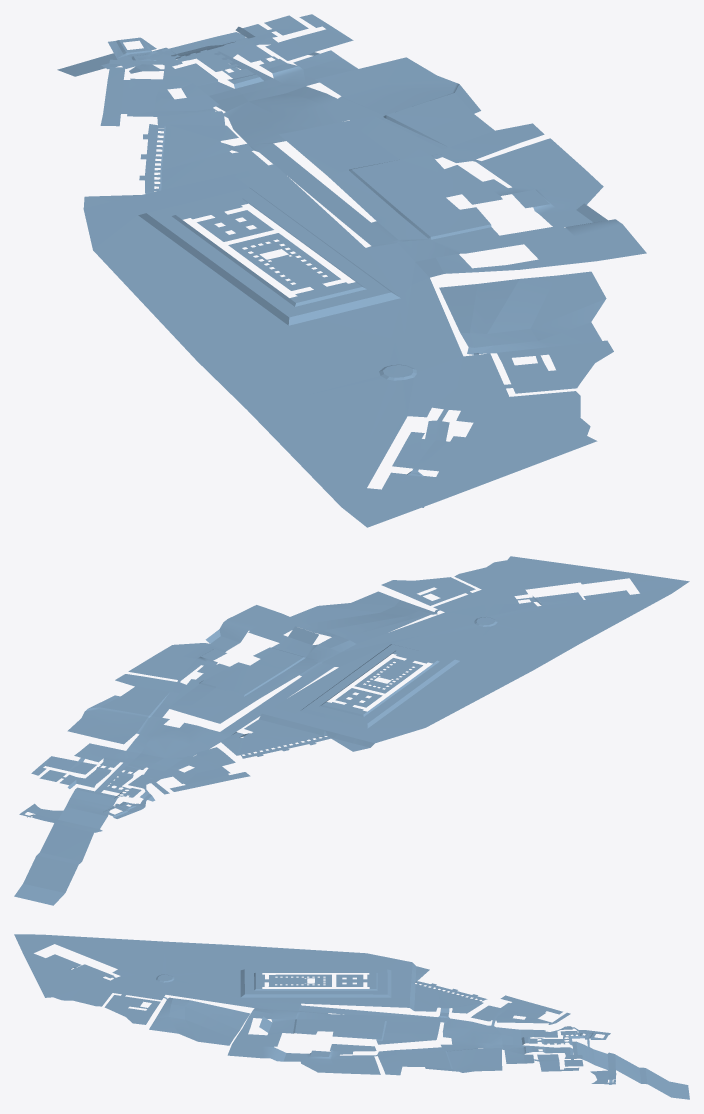
The model's file is AcropolisWalk.glb.
3 renders of one model, top to bottom at view 1: azimuth 30°, elevation 25°; view 2: azimuth 150°, elevation 25°; view 3: azimuth 270°, elevation 25°, orthographic. The views are drawn at different scales.
Visible parts, largest first — view 1: WalkConstraint; view 2: WalkConstraint; view 3: WalkConstraint.
Boxes of the visible parts, box(x1,y1,x2,y2) form: WalkConstraint: box(57, 14, 646, 527); WalkConstraint: box(14, 556, 689, 905); WalkConstraint: box(14, 934, 689, 1099).
Size of the model in its own units: 148 by 34.25 by 315.
